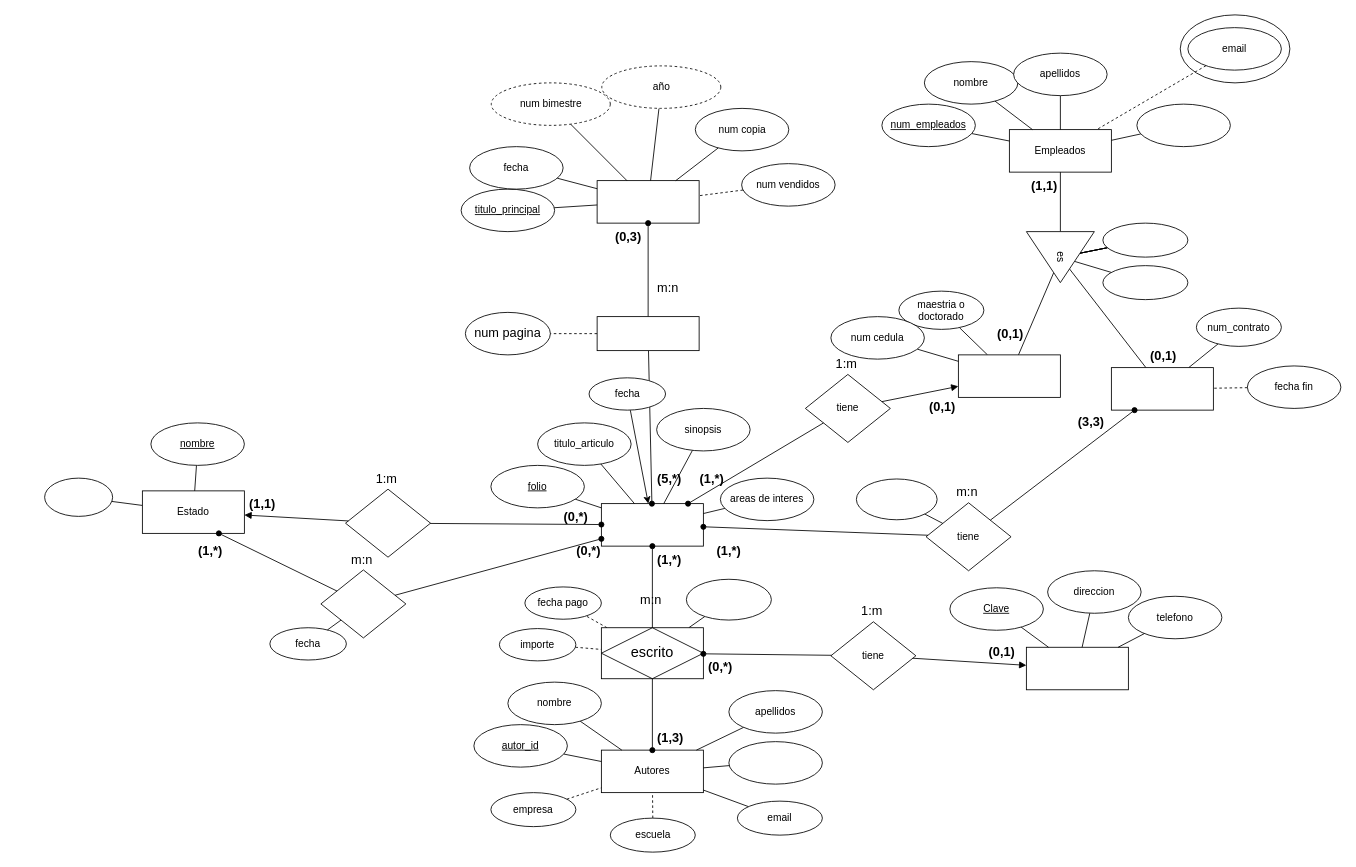
The diagram is 1356 pixels wide and 867 high, and some of its shapes have lost their labels. The centre of each missing label's shape, as x and y in pixels:
"% Participacion" goes at [728,599].
"ARTICULO" goes at [652,524].
"asignado (Historico)" goes at [363,603].
"calificacion" goes at [896,499].
"descripcion" goes at [78,496].
"Editor" goes at [1009,375].
"Entity" goes at [647,333].
"es asignado" goes at [388,522].
"es editor" goes at [1145,282].
"es revisor" goes at [1145,239].
"fecha ingreso" goes at [1183,125].
"ocupacion" goes at [775,762].
"Oficina" goes at [1077,668].
"Revisor" goes at [1162,388].
"Revista" goes at [647,201].
